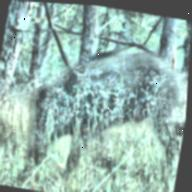boar: (20, 15, 191, 192)
